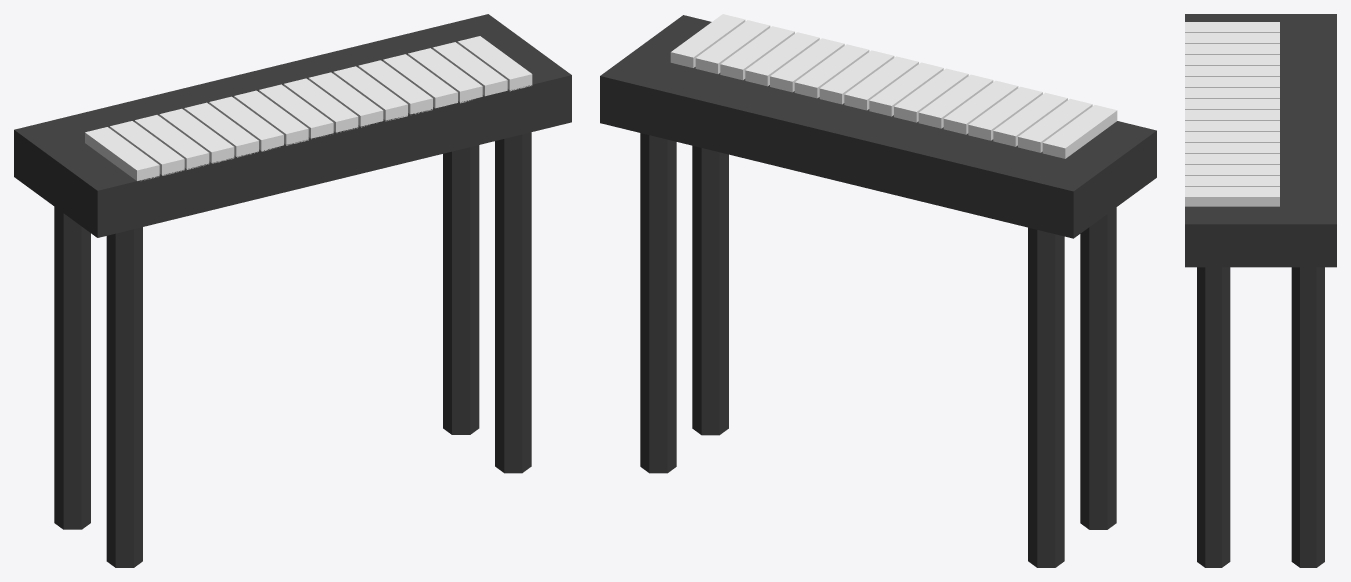
3 views of the same model, side by side, from view 1: azimuth 30°, elevation 25°; view 2: azimuth 150°, elevation 25°; view 3: azimuth 270°, elevation 25° (orthographic). The views are drawn at different scales.
Parts seen in each view (by area): view 1: Keyboard, Leg.002, Leg, Leg.001, Leg.003, White key, White key.015, White key.001, White key.002, White key.003, White key.006, White key.010 (+9 smaller); view 2: Keyboard, Leg.003, Leg.001, Leg, Leg.002, White key, White key.009, White key.008, White key.004, White key.013, White key.014, White key.003 (+9 smaller); view 3: Keyboard, Leg.002, Leg.003, White key.015, White key, White key.001, White key.002, White key.003, White key.004, White key.005, White key.006, White key.007 (+7 smaller).
Part boxes in pixels (x1,y1,x2,y2): Keyboard: (14,14,571,237); Leg.002: (495,132,531,473); Leg: (106,227,142,567); Leg.001: (54,207,90,529); Leg.003: (443,145,479,434); White key: (85,127,159,180); White key.015: (457,36,532,91); White key.001: (109,121,184,175); White key.002: (134,115,209,169); White key.003: (159,108,234,163); White key.006: (234,90,308,145); White key.010: (333,66,407,121); Keyboard: (600,15,1156,238); Leg.003: (640,133,676,473); Leg.001: (1028,227,1064,567); Leg: (1080,207,1116,529); Leg.002: (692,145,728,435); White key: (1042,105,1117,158); White key.009: (819,50,894,104); White key.008: (844,56,918,110); White key.004: (943,80,1018,134); White key.013: (720,26,794,80); White key.014: (695,20,770,73); White key.003: (968,86,1042,140); Keyboard: (1185,14,1336,267); Leg.002: (1197,267,1230,567); Leg.003: (1291,267,1324,567); White key.015: (1185,187,1279,206); White key: (1185,22,1279,32); White key.001: (1185,33,1279,43); White key.002: (1185,44,1279,54); White key.003: (1185,55,1279,65); White key.004: (1185,66,1279,76); White key.005: (1185,77,1279,87); White key.006: (1185,88,1279,98); White key.007: (1185,99,1279,109).
Size of the model in its own units: 1.05 by 0.8525 by 0.32.
1 material, 1 textured.
